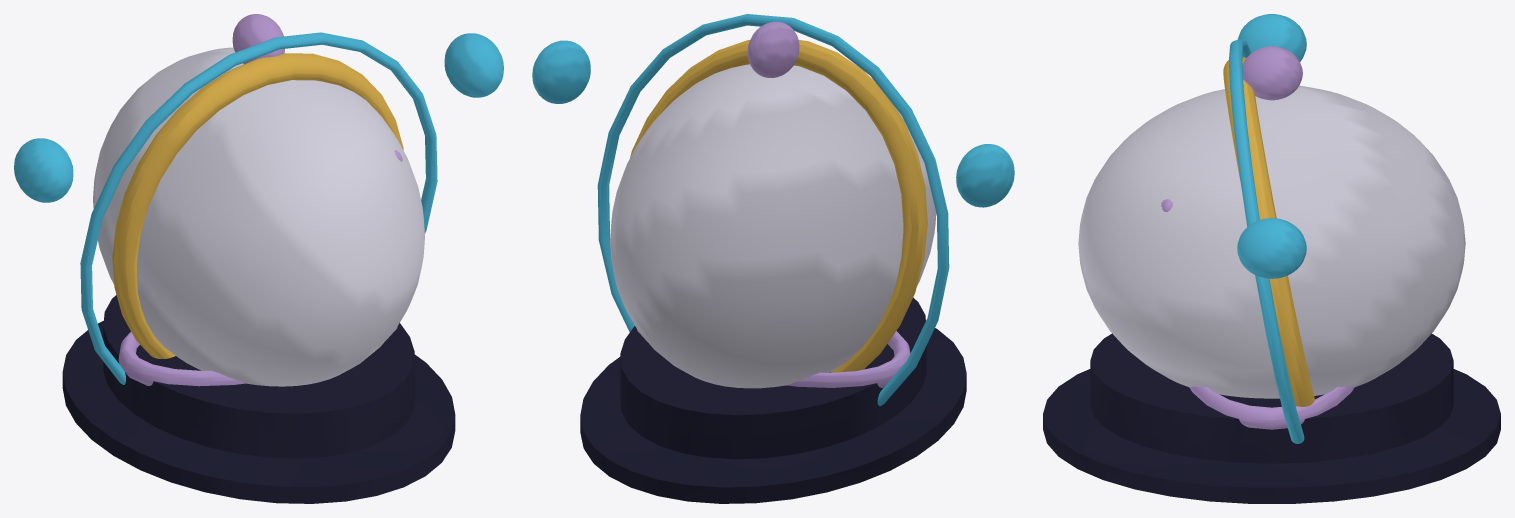
File: 0401_月球图鉴_月球.glb
3 views of the same model, side by side, from view 1: azimuth 30°, elevation 25°; view 2: azimuth 150°, elevation 25°; view 3: azimuth 270°, elevation 25° (orthographic). The views are drawn at different scales.
Parts seen in each view (by area): view 1: card_0401; view 2: card_0401; view 3: card_0401.
Boxes of the visible parts, x1,y1,x2,y2 form: card_0401: [14, 14, 503, 503]; card_0401: [532, 14, 1014, 503]; card_0401: [1043, 14, 1500, 503].
Bounding box in the file's own units: 1.24 × 1 × 1.06.
